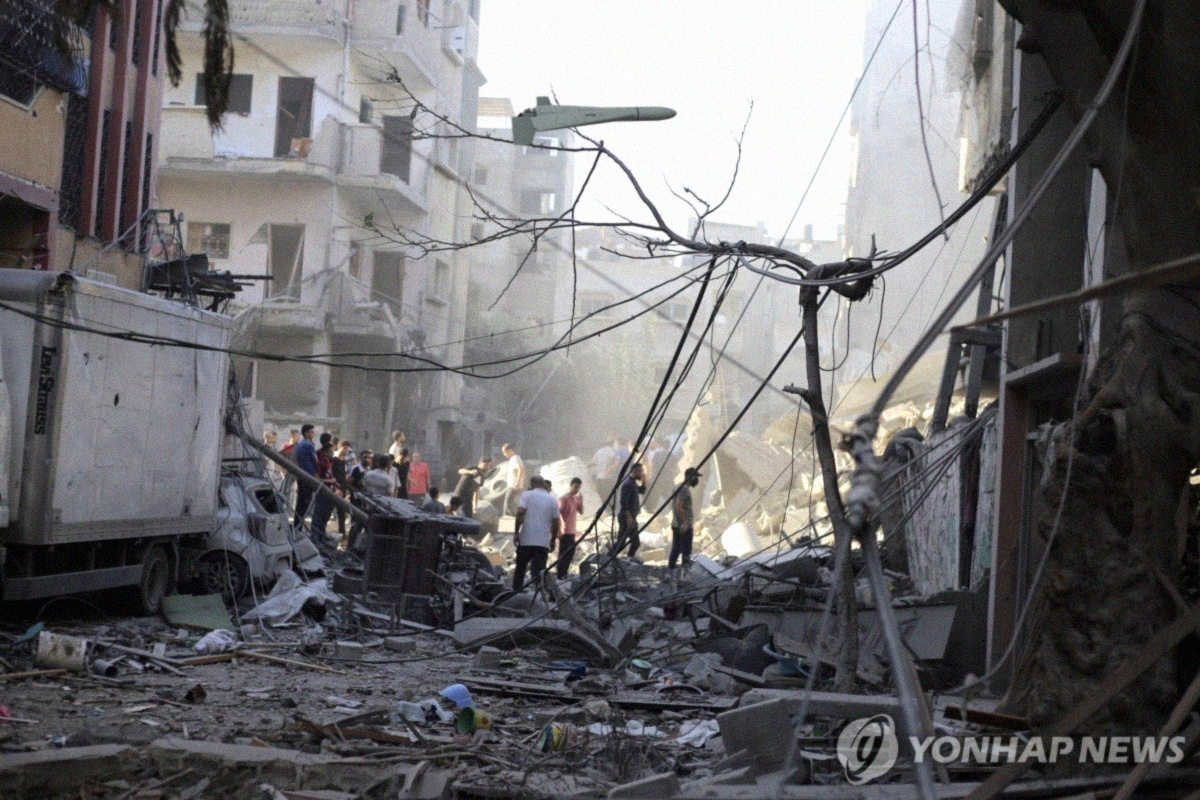shahed: (504, 82, 684, 148)
